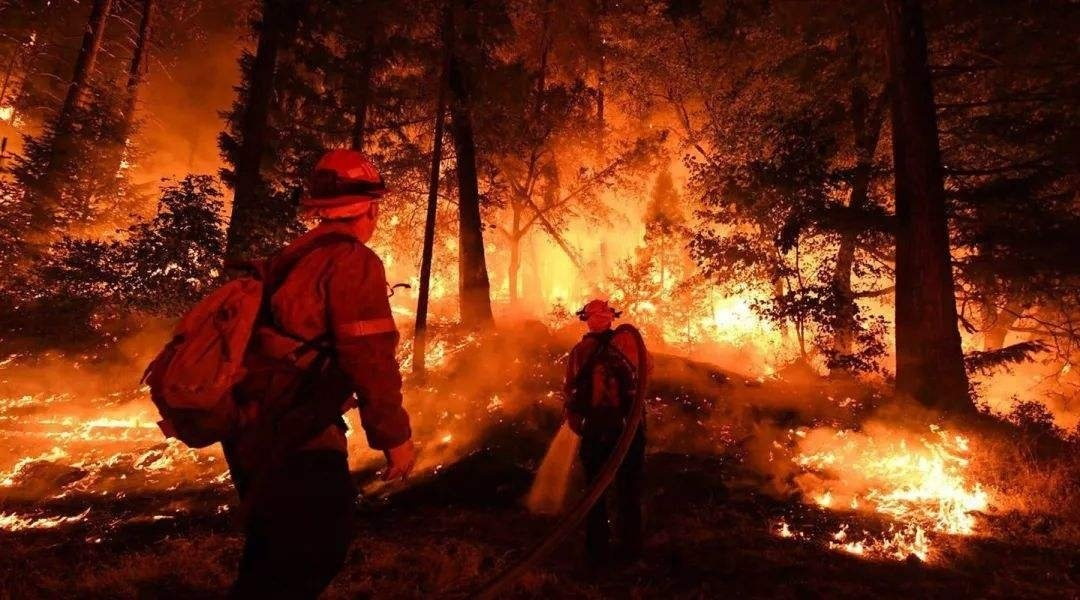fire: (375, 191, 841, 354), (790, 406, 989, 559)
